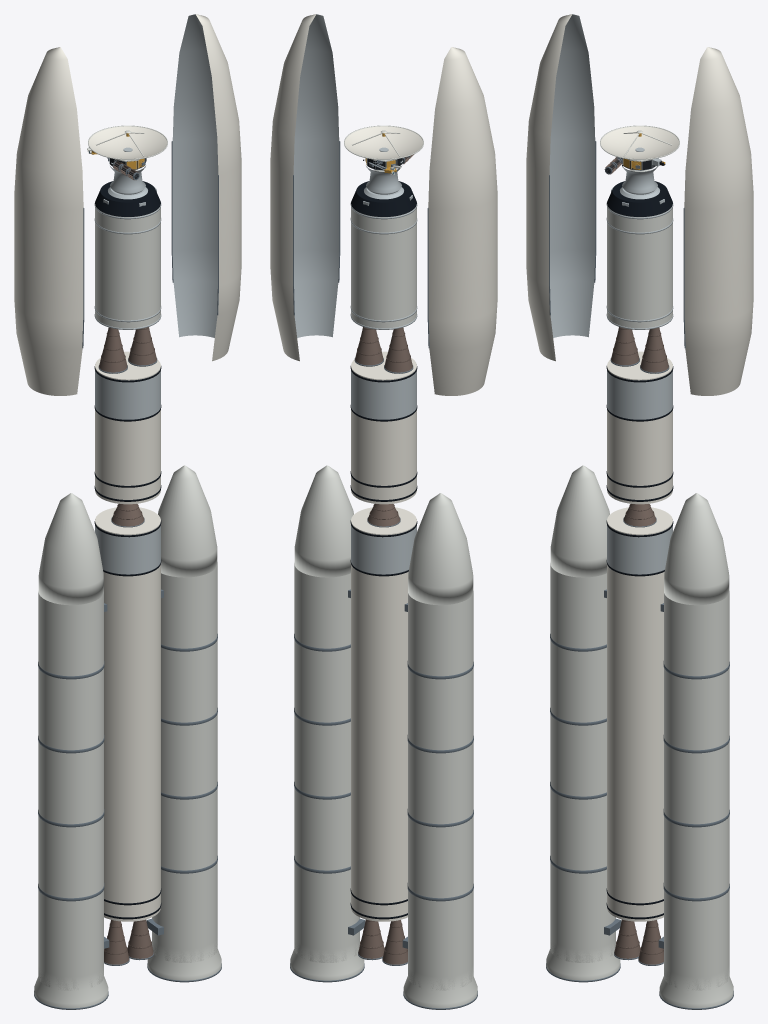
Rendered from voyager_fairing_open.glb.
3 views of the same model, side by side, from view 1: azimuth 30°, elevation 25°; view 2: azimuth 150°, elevation 25°; view 3: azimuth 330°, elevation 25° (orthographic).
Parts seen in each view (by area): view 1: titan_srb_l.mesh_Pale_thermal_blanket, titan_srb_r.mesh_Pale_thermal_blanket, titan_centaur_fairing_l.mesh_Warm_white_enamel, titan_stage_1.mesh_Warm_white_enamel, titan_centaur_fairing_r.mesh_Satin_aluminum, titan_centaur.mesh_Pale_thermal_blanket, titan_centaur_fairing_r.mesh_Warm_white_enamel, titan_stage_2.mesh_Warm_white_enamel, titan_srb_l.nose.mesh_Pale_thermal_blanket, titan_srb_r.nose.mesh_Pale_thermal_blanket, titan_stage_2.mesh_Satin_aluminum, titan_stage_1.mesh_Satin_aluminum (+15 smaller); view 2: titan_srb_l.mesh_Pale_thermal_blanket, titan_srb_r.mesh_Pale_thermal_blanket, titan_centaur_fairing_l.mesh_Warm_white_enamel, titan_stage_1.mesh_Warm_white_enamel, titan_centaur_fairing_r.mesh_Satin_aluminum, titan_centaur.mesh_Pale_thermal_blanket, titan_centaur_fairing_r.mesh_Warm_white_enamel, titan_stage_2.mesh_Warm_white_enamel, titan_srb_l.nose.mesh_Pale_thermal_blanket, titan_srb_r.nose.mesh_Pale_thermal_blanket, titan_stage_2.mesh_Satin_aluminum, titan_stage_1.mesh_Satin_aluminum (+15 smaller); view 3: titan_srb_r.mesh_Pale_thermal_blanket, titan_srb_l.mesh_Pale_thermal_blanket, titan_centaur_fairing_r.mesh_Warm_white_enamel, titan_stage_1.mesh_Warm_white_enamel, titan_centaur_fairing_l.mesh_Satin_aluminum, titan_centaur.mesh_Pale_thermal_blanket, titan_centaur_fairing_l.mesh_Warm_white_enamel, titan_stage_2.mesh_Warm_white_enamel, titan_srb_r.nose.mesh_Pale_thermal_blanket, titan_srb_l.nose.mesh_Pale_thermal_blanket, titan_stage_2.mesh_Satin_aluminum, titan_stage_1.mesh_Satin_aluminum (+15 smaller).
Part boxes in pixels (x1,y1,x2,y2): titan_srb_l.mesh_Pale_thermal_blanket: (38,592,103,990); titan_srb_r.mesh_Pale_thermal_blanket: (152,563,217,962); titan_centaur_fairing_l.mesh_Warm_white_enamel: (14,47,83,395); titan_stage_1.mesh_Warm_white_enamel: (95,507,160,921); titan_centaur_fairing_r.mesh_Satin_aluminum: (172,14,218,337); titan_centaur.mesh_Pale_thermal_blanket: (95,204,160,328); titan_centaur_fairing_r.mesh_Warm_white_enamel: (196,14,241,361); titan_stage_2.mesh_Warm_white_enamel: (95,351,160,504); titan_srb_l.nose.mesh_Pale_thermal_blanket: (38,493,103,605); titan_srb_r.nose.mesh_Pale_thermal_blanket: (158,465,217,577); titan_stage_2.mesh_Satin_aluminum: (95,370,160,419); titan_stage_1.mesh_Satin_aluminum: (95,525,160,574); titan_srb_l.mesh_Pale_thermal_blanket: (408,592,473,990); titan_srb_r.mesh_Pale_thermal_blanket: (294,563,359,962); titan_centaur_fairing_l.mesh_Warm_white_enamel: (428,47,497,395); titan_stage_1.mesh_Warm_white_enamel: (351,507,416,921); titan_centaur_fairing_r.mesh_Satin_aluminum: (293,14,339,337); titan_centaur.mesh_Pale_thermal_blanket: (351,204,416,328); titan_centaur_fairing_r.mesh_Warm_white_enamel: (270,14,315,361); titan_stage_2.mesh_Warm_white_enamel: (351,351,416,504); titan_srb_l.nose.mesh_Pale_thermal_blanket: (408,493,473,605); titan_srb_r.nose.mesh_Pale_thermal_blanket: (294,465,353,577); titan_stage_2.mesh_Satin_aluminum: (351,370,416,419); titan_stage_1.mesh_Satin_aluminum: (351,525,416,574); titan_srb_r.mesh_Pale_thermal_blanket: (664,592,729,990); titan_srb_l.mesh_Pale_thermal_blanket: (550,563,615,962); titan_centaur_fairing_r.mesh_Warm_white_enamel: (684,47,753,395); titan_stage_1.mesh_Warm_white_enamel: (607,507,672,921); titan_centaur_fairing_l.mesh_Satin_aluminum: (549,14,595,337); titan_centaur.mesh_Pale_thermal_blanket: (607,204,672,328); titan_centaur_fairing_l.mesh_Warm_white_enamel: (526,14,571,361); titan_stage_2.mesh_Warm_white_enamel: (607,351,672,504); titan_srb_r.nose.mesh_Pale_thermal_blanket: (664,493,729,605); titan_srb_l.nose.mesh_Pale_thermal_blanket: (550,465,609,577); titan_stage_2.mesh_Satin_aluminum: (607,370,672,419); titan_stage_1.mesh_Satin_aluminum: (607,525,672,574).
Bounding box in the file's own units: 11.47 × 48.8 × 4.33.
